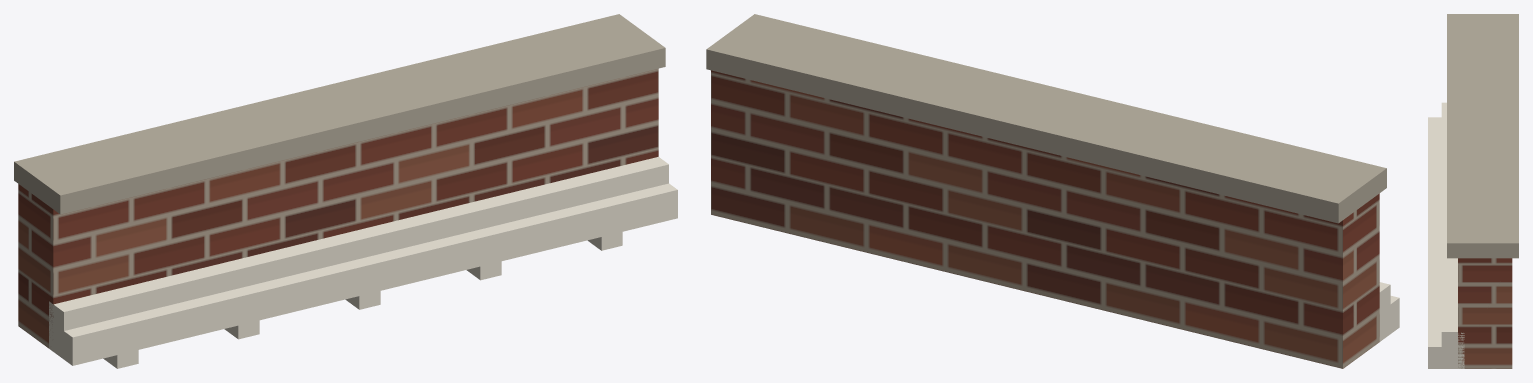
The model's file is ct_cornice.glb.
3 views of the same model, side by side, from view 1: azimuth 30°, elevation 25°; view 2: azimuth 150°, elevation 25°; view 3: azimuth 270°, elevation 25° (orthographic). The views are drawn at different scales.
Visible parts, largest first — view 1: city_ct_cornice; view 2: city_ct_cornice; view 3: city_ct_cornice.
Boxes of the visible parts, x1,y1,x2,y2 form: city_ct_cornice: [14, 14, 677, 368]; city_ct_cornice: [706, 14, 1399, 368]; city_ct_cornice: [1428, 14, 1518, 368].
Bounding box in the file's own units: 4 × 1.14 × 0.67.
Materials: 2 (2 with a texture image).
